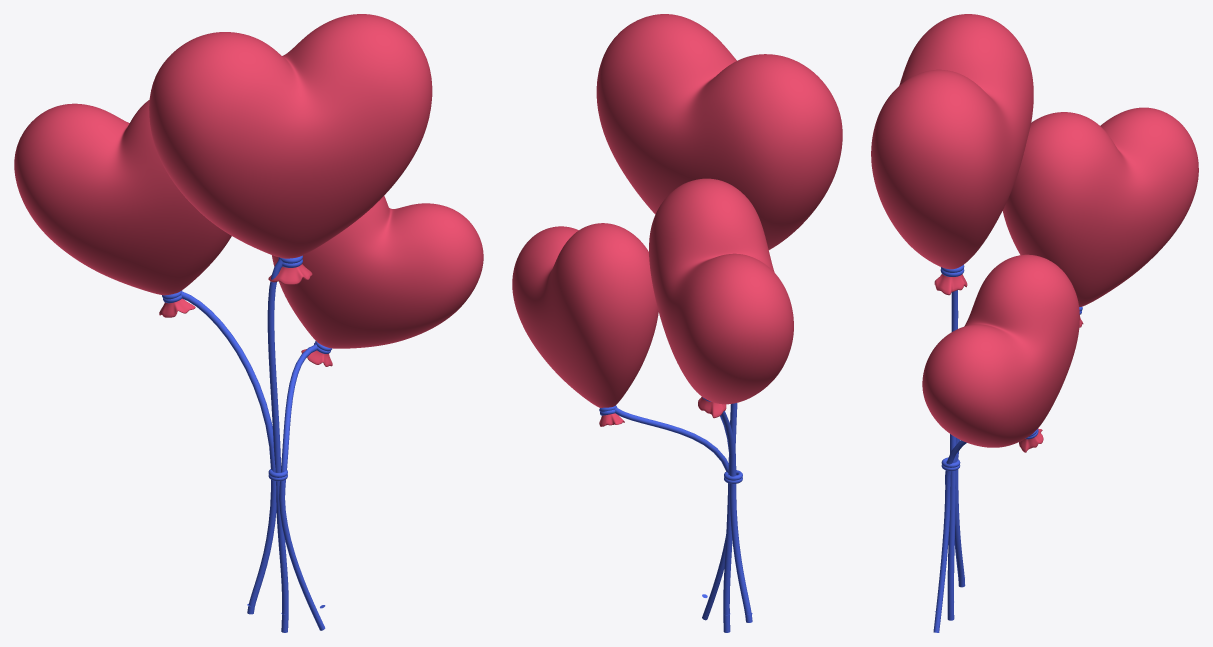
The model's file is heart-balloons-3d-animated-icons-1442921228103.glb.
3 views of the same model, side by side, from view 1: azimuth 30°, elevation 25°; view 2: azimuth 150°, elevation 25°; view 3: azimuth 270°, elevation 25° (orthographic). The views are drawn at different scales.
Visible parts, largest first — view 1: baloon.001, baloon, baloon.004, rope.004, rope.007, rope.010; view 2: baloon.001, baloon, baloon.004, rope.007, rope.010, rope.004; view 3: baloon.001, baloon, baloon.004, rope.004, rope.010, rope.007, baloon.002.
Boxes of the visible parts, x1,y1,x2,y2 form: baloon.001: (149, 14, 432, 258); baloon: (14, 100, 231, 295); baloon.004: (272, 196, 483, 348); rope.004: (267, 259, 288, 632); rope.007: (181, 291, 276, 614); rope.010: (279, 344, 325, 630); baloon.001: (596, 14, 842, 249); baloon: (649, 178, 793, 404); baloon.004: (512, 223, 658, 407); rope.007: (720, 411, 752, 622); rope.010: (615, 407, 728, 620); rope.004: (723, 403, 737, 632); baloon.001: (871, 14, 1033, 269); baloon: (1002, 107, 1198, 306); baloon.004: (922, 254, 1079, 447); rope.004: (947, 290, 958, 620); rope.010: (933, 440, 966, 632); rope.007: (954, 438, 965, 587); baloon.002: (934, 274, 967, 295).
Bounding box in the file's own units: 1.65 × 2.61 × 1.35.
